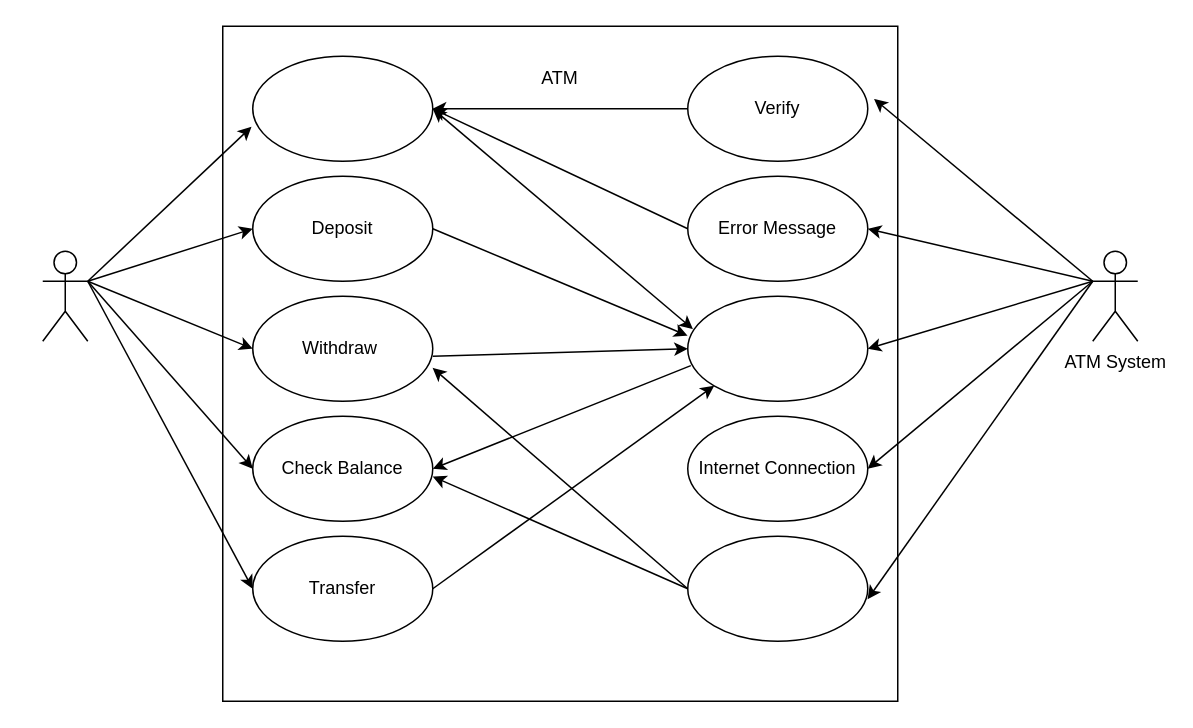
This 1193x728 diagram has some shape labels left out. The centre of each missing label's shape, as x and y in pixels:
Account Informations: pixel 777 588
Costumer: pixel 64 295
Database: pixel 777 348
Enter PIN: pixel 342 108
